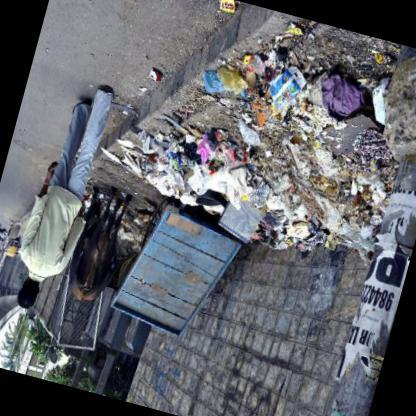Garbage: (249, 54, 393, 254), (186, 85, 350, 245), (122, 121, 254, 194)
